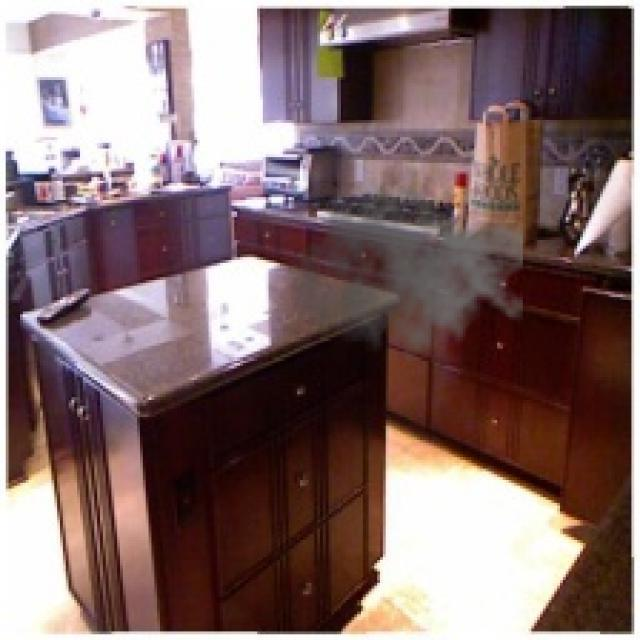Smoke: (286, 174, 523, 374)
